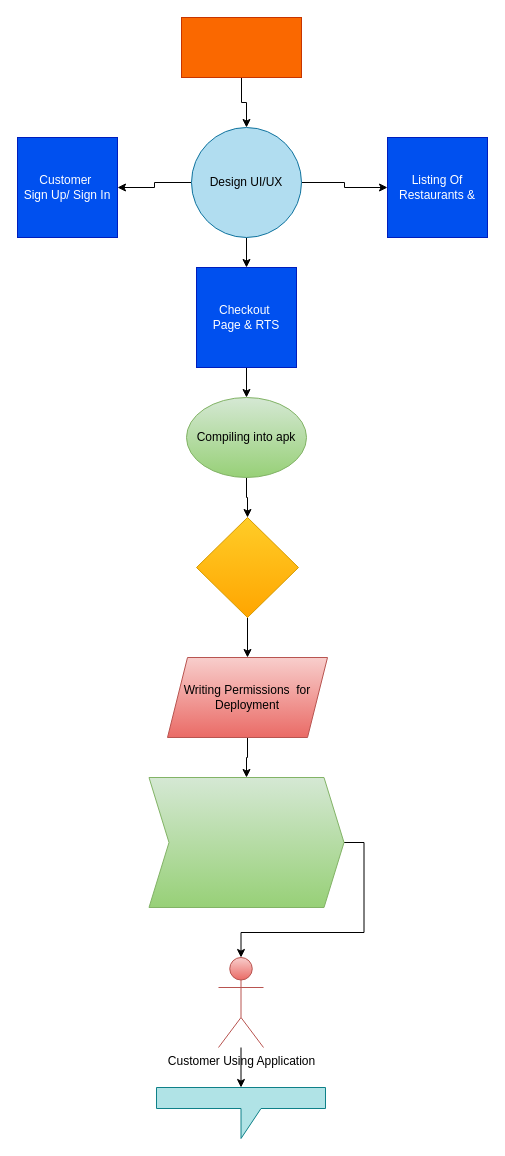
This 505x1156 diagram has some shape labels left out. Each missing label, with the box of its shape:
Foody: (180, 16, 302, 78)
No Bugs Found: (196, 516, 298, 618)
No Feedback Recieved: (156, 1086, 326, 1138)
Pushing the APK To Cloud Or Appstore: (148, 776, 344, 908)
